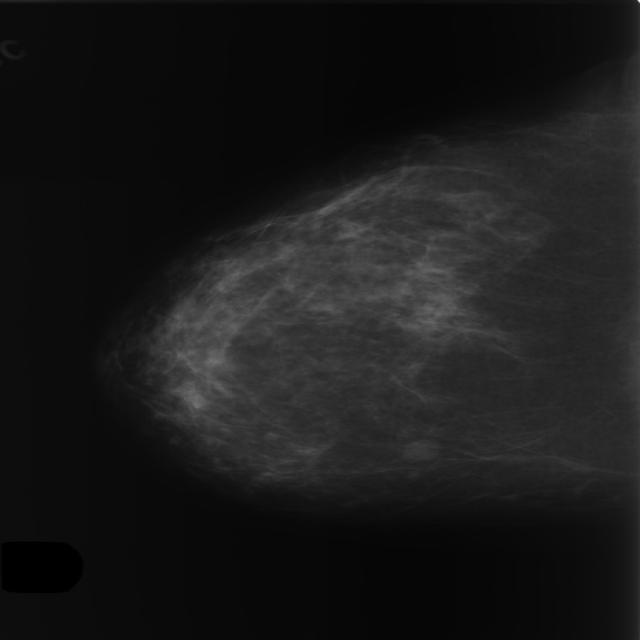tumour: (398, 436, 439, 461)
